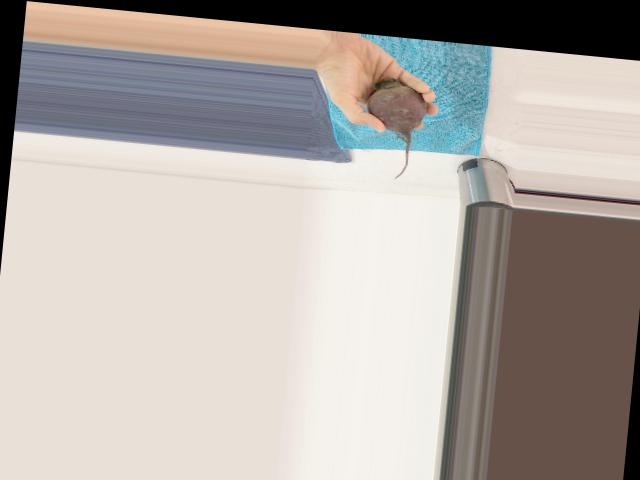beet: (360, 75, 430, 180)
